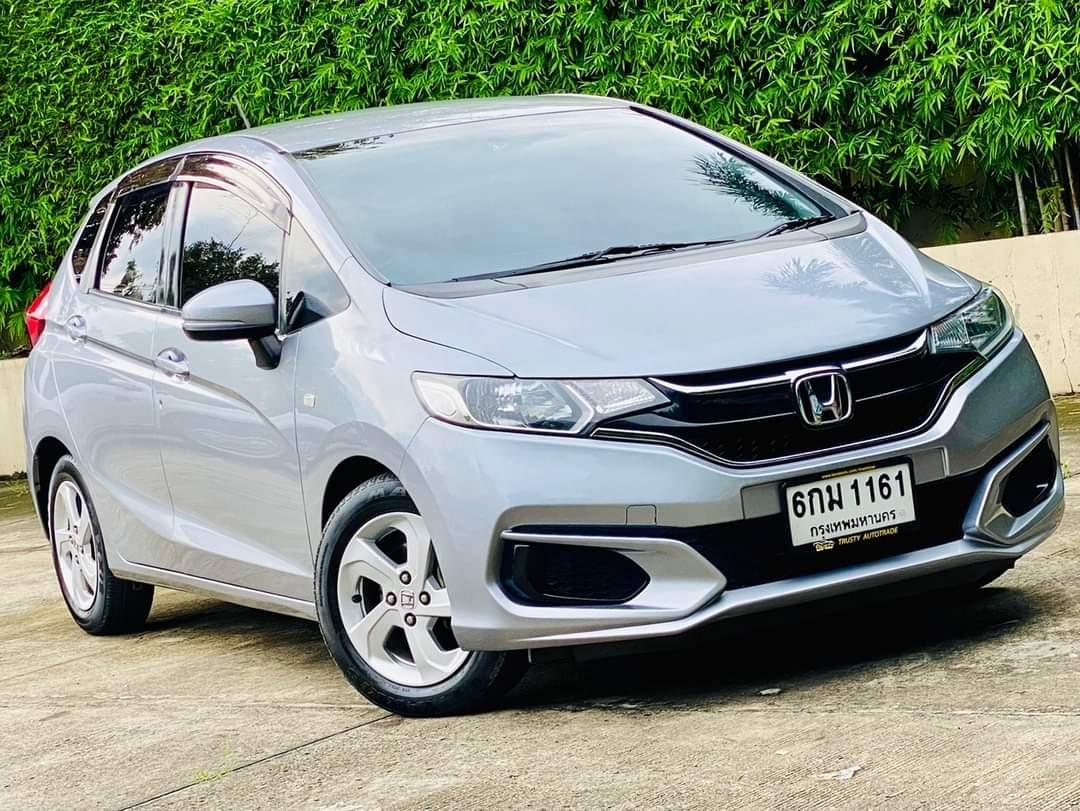license-plate: (762, 453, 925, 558)
